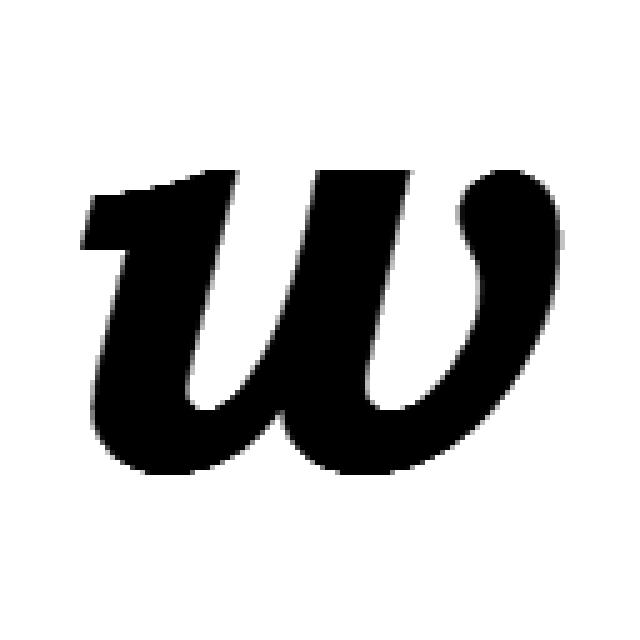W: (79, 174, 576, 472)
